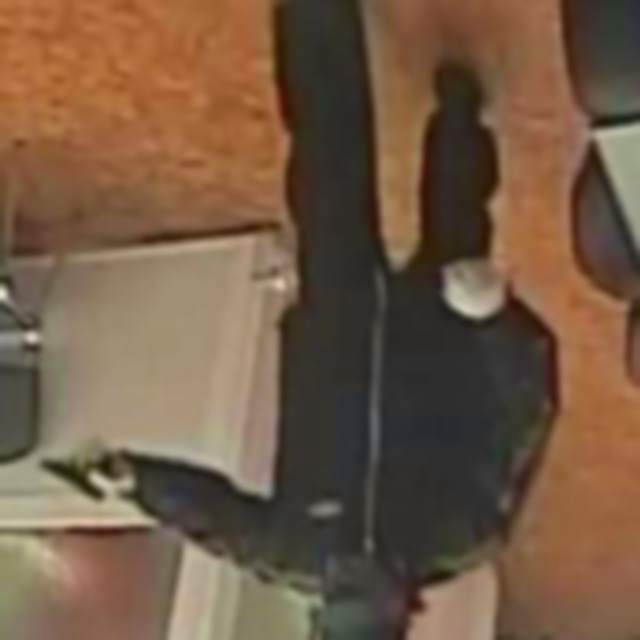gun: (36, 430, 129, 512)
